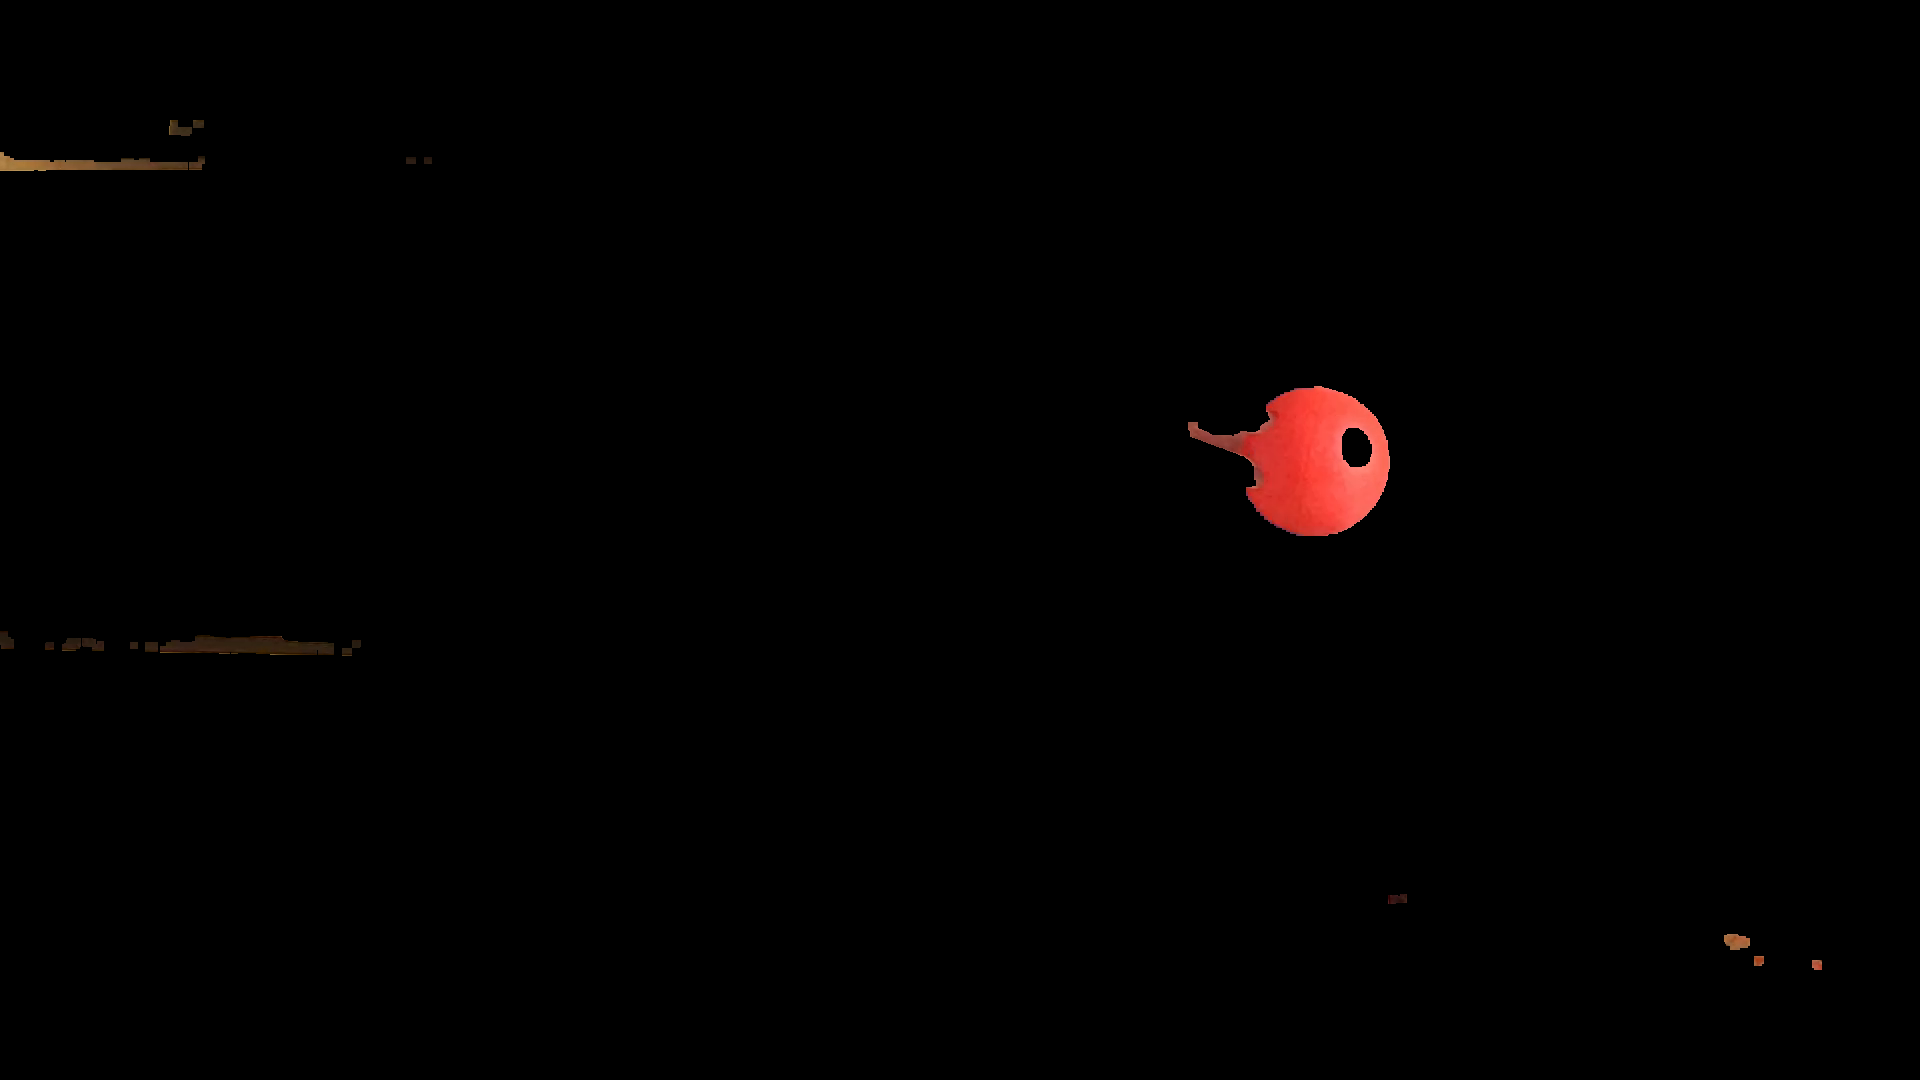Ball: (1245, 384, 1396, 541)
